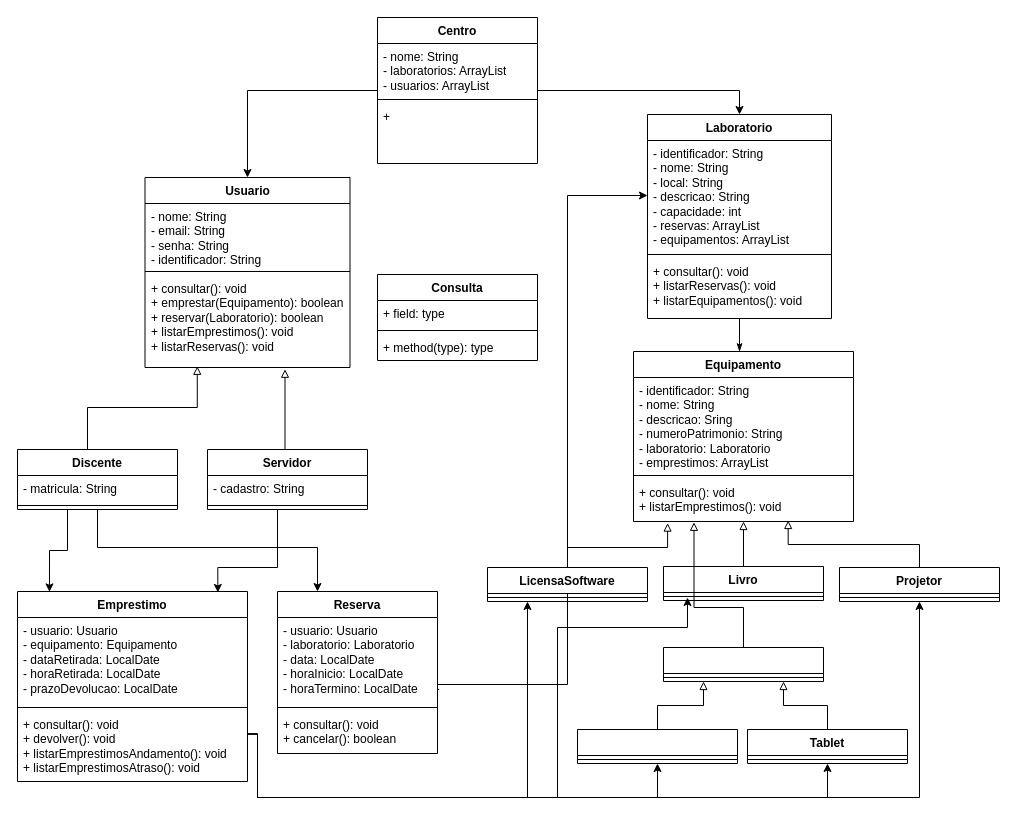
Some shapes in this 1017 by 823 pixel diagram are drawn without their labels. Here are the shapes that lost their labels. From the top down, the centre of each, then its label:
(743,664): Dispositivo
(657,746): Computador
